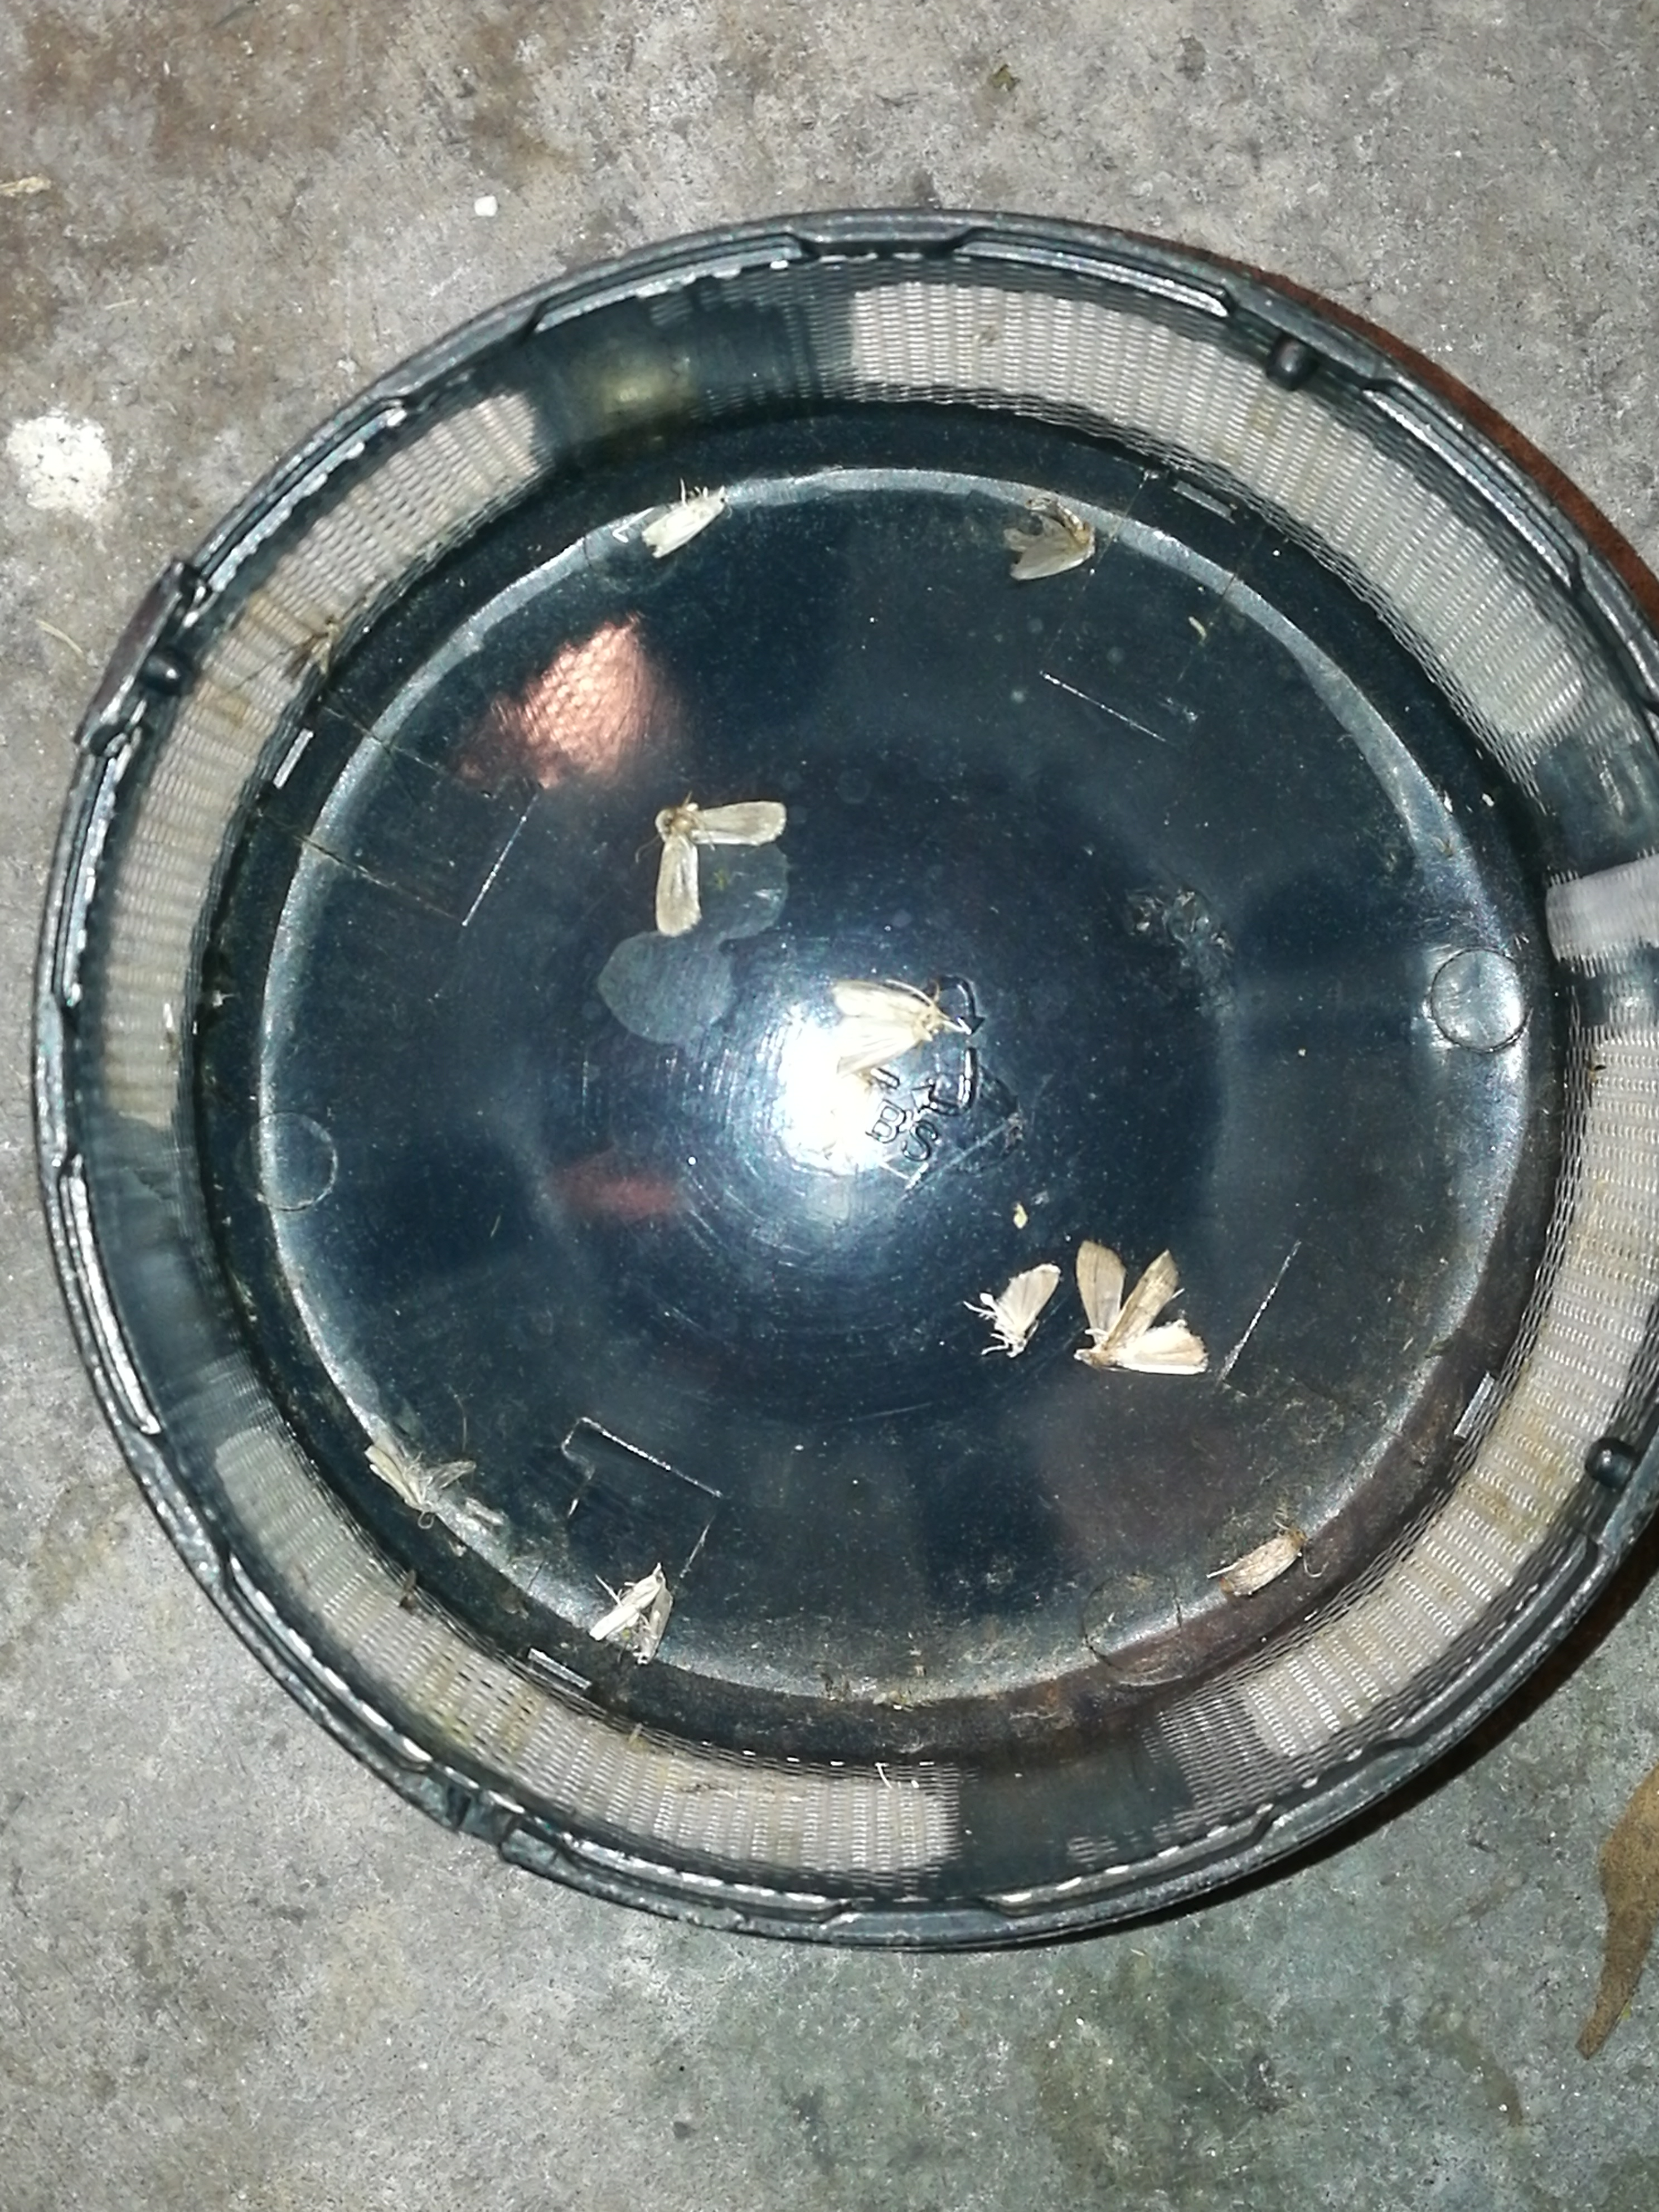mosquito: (364, 1439, 436, 1510), (592, 1569, 666, 1639), (641, 495, 725, 556)
moth: (1073, 1240, 1208, 1374), (657, 801, 781, 937), (981, 1264, 1060, 1355), (1211, 1529, 1309, 1595), (1004, 521, 1094, 578)
